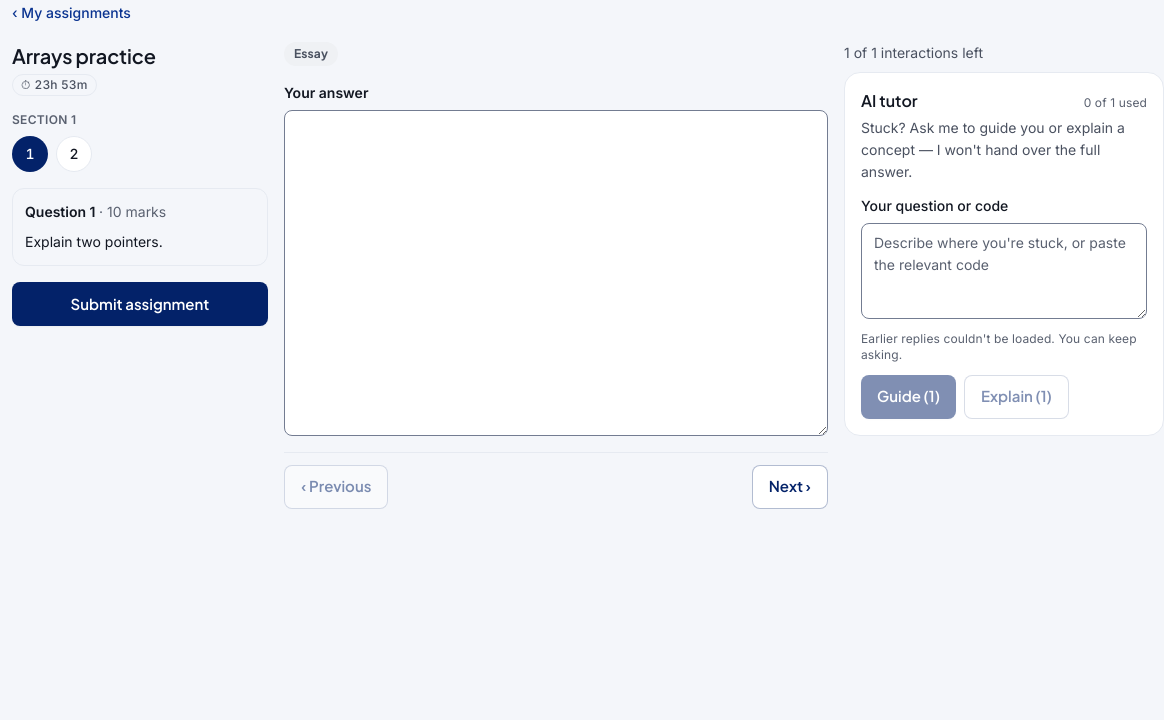
StructuredAssignment workspace › shows a clear state for ai_quota_exceeded
This screenshot has width=1164, height=720.
Type "Help" into the text box labelled "Your question or code" at (1004, 271), box [861, 223, 1147, 319]
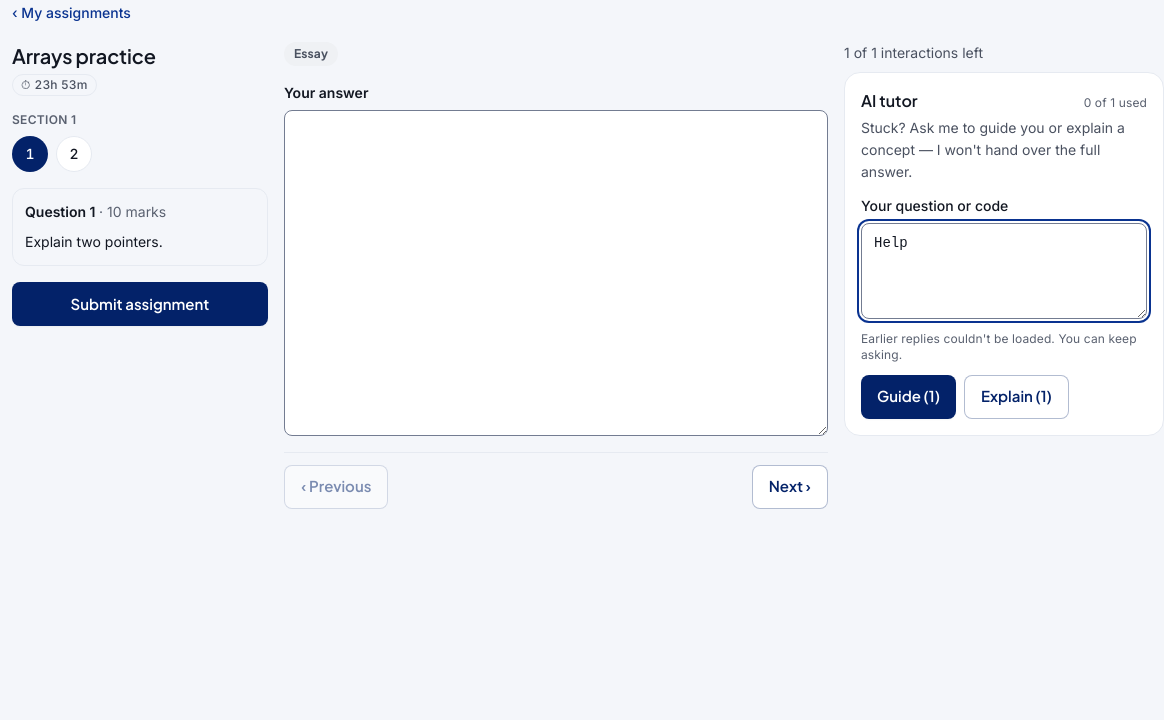
Click the button "Explain (1)" at (1016, 397), box [964, 375, 1069, 419]
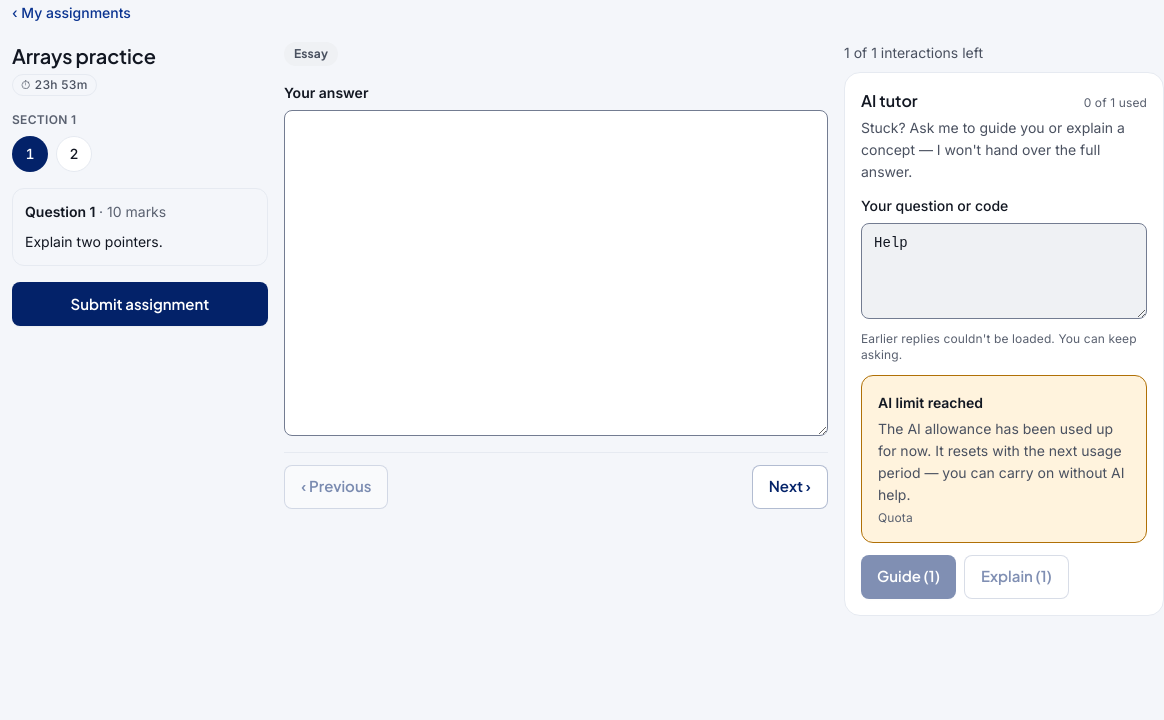
Now the text "AI limit reached" is shown, box [878, 394, 983, 411]
